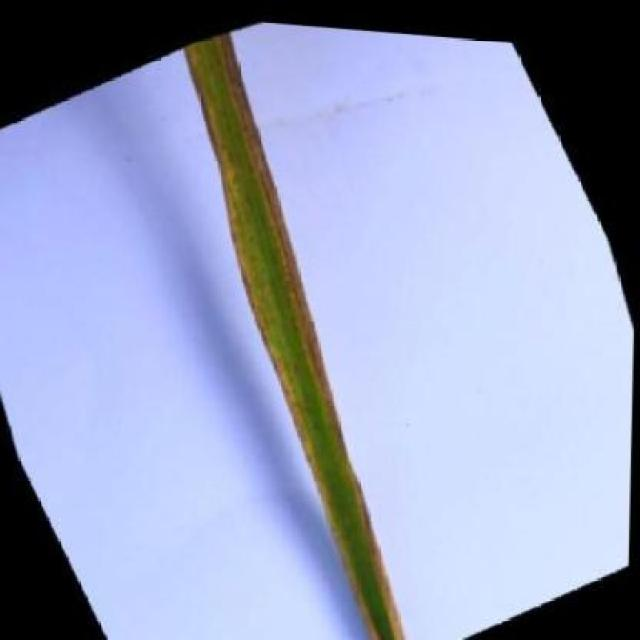Rice False Smut: (92, 15, 526, 640)
